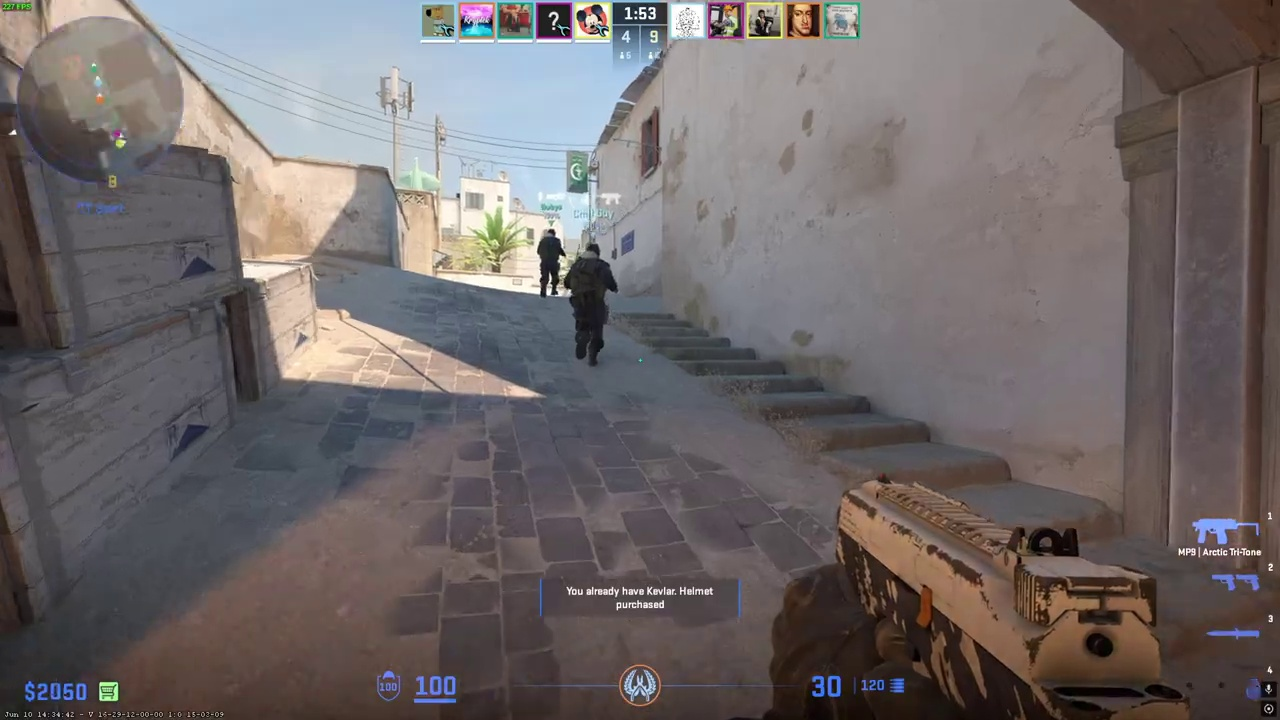CT: (567, 242, 614, 368), (537, 229, 564, 298)
